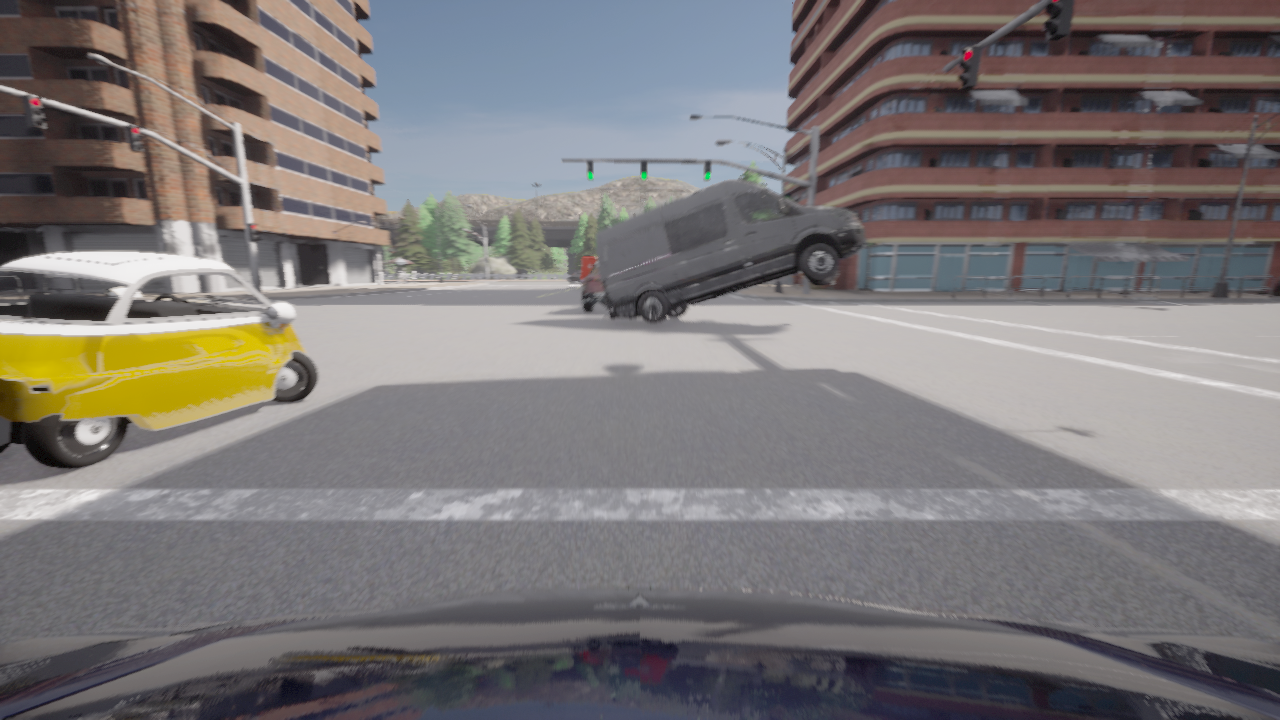cyclist: (0, 588, 1279, 719), (0, 251, 318, 468), (596, 180, 866, 323), (581, 261, 606, 312), (581, 257, 597, 286), (566, 271, 581, 282)
